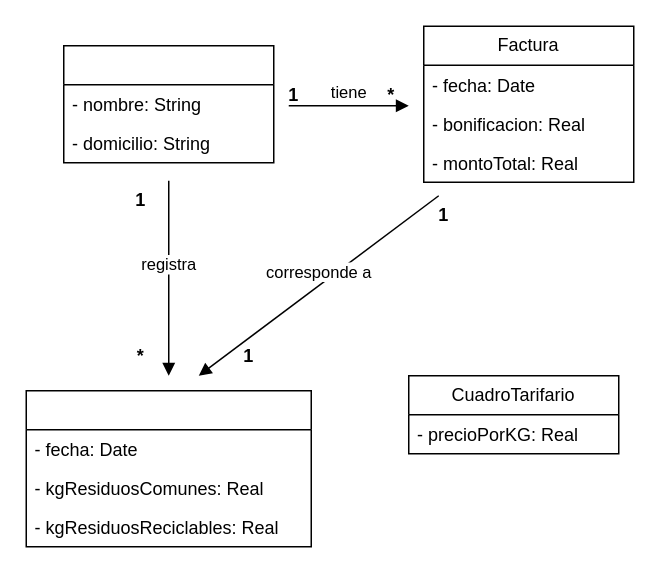
Image size: 660x578. Some labels were removed from this diagram. The box of each missing label's shape, as (x1, y1, x2, y2) in pixels:
RegistroColección: (25, 389, 311, 547)
Usuario: (62, 44, 274, 163)
